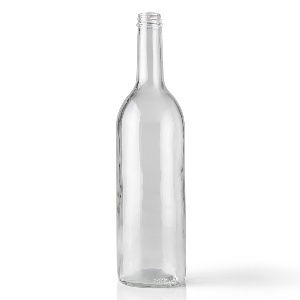emptybottle: (117, 12, 186, 287)
